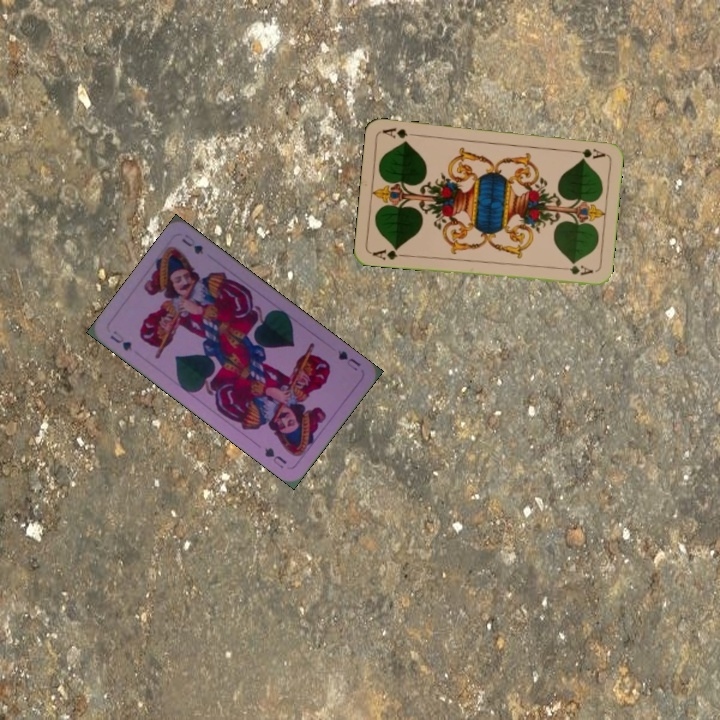GA: (369, 244, 409, 262), (567, 145, 608, 161)
GU: (106, 326, 135, 354), (334, 346, 364, 373)
